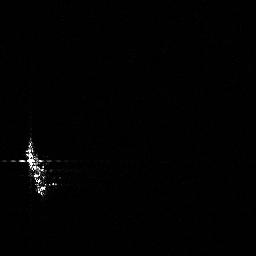ship: (21, 136, 53, 197)
